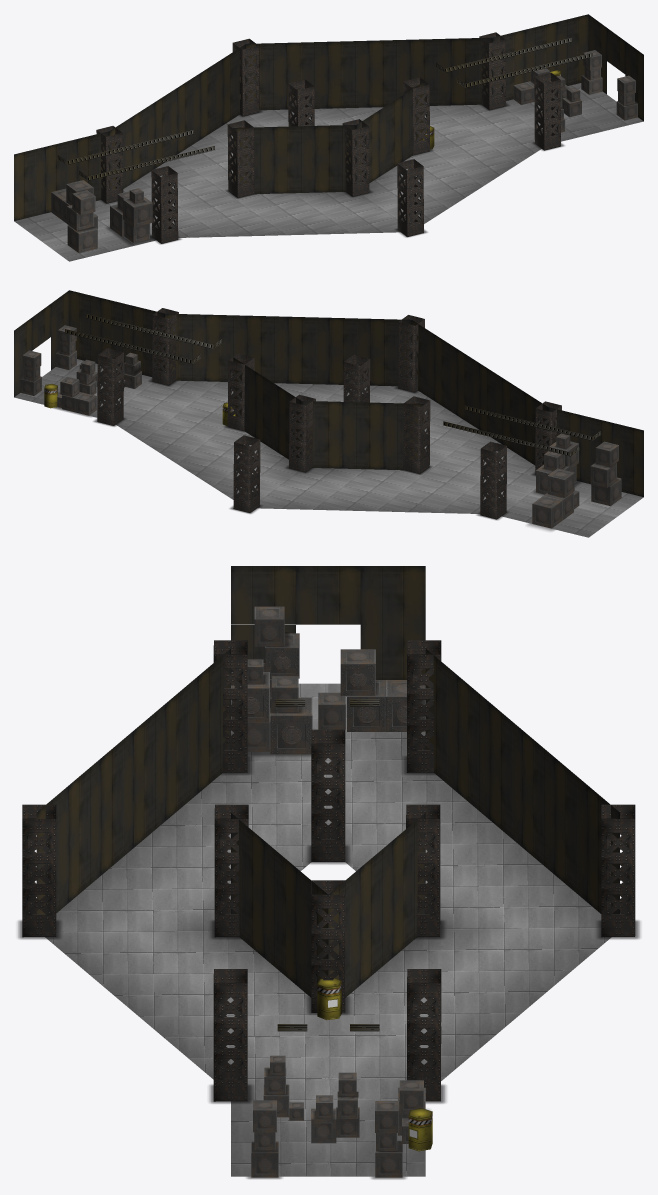
Rendered from room_14.glb.
The picture shows the model from 3 angles, top to bottom: view 1: azimuth 30°, elevation 25°; view 2: azimuth 150°, elevation 25°; view 3: azimuth 270°, elevation 25°; orthographic projection. The views are drawn at different scales.
Parts seen in each view (by area): view 1: floor, props (×10), W14, W10, W2, W13, W16, W1, W15, C1MetalBox3 (×3), EMetalBox3 (×2), F1MetalBox2 (+6 smaller); view 2: floor, props (×10), W9, W8, W3, W6, W12, W4, W15, EMetalBox3 (×2), C1MetalBox3 (×3), EMetalBox6 (+5 smaller); view 3: floor, props (×10), W10, W8, W11, W4, W1, C1MetalBox3 (×3), EMetalBox3, wall, F1MetalBox5, gagTank1 (×2) (+4 smaller).
Part boxes in pixels (x1,y1,x2,y2): floor: [14, 83, 643, 261]; props (×10): [96, 32, 560, 243]; W14: [246, 37, 492, 110]; W10: [109, 44, 245, 189]; W2: [233, 125, 356, 194]; W13: [14, 131, 109, 220]; W16: [492, 14, 588, 100]; W1: [356, 81, 424, 182]; W15: [588, 14, 643, 121]; C1MetalBox3 (×3): [67, 190, 97, 252]; EMetalBox3 (×2): [51, 81, 542, 223]; F1MetalBox2: [123, 197, 152, 227]; floor: [14, 359, 643, 537]; props (×10): [97, 308, 561, 519]; W9: [165, 313, 411, 386]; W8: [412, 320, 548, 465]; W3: [301, 401, 424, 470]; W6: [69, 290, 164, 376]; W12: [548, 407, 643, 496]; W4: [233, 357, 301, 459]; W15: [14, 290, 69, 397]; EMetalBox3 (×2): [62, 392, 573, 528]; C1MetalBox3 (×3): [590, 441, 621, 505]; EMetalBox6: [547, 468, 574, 497]; floor: [45, 683, 611, 1176]; props (×10): [22, 640, 635, 1101]; W10: [425, 648, 619, 914]; W8: [36, 648, 230, 914]; W11: [231, 566, 425, 624]; W4: [328, 813, 425, 997]; W1: [231, 813, 328, 997]; C1MetalBox3 (×3): [251, 606, 299, 1177]; EMetalBox3: [347, 680, 425, 731]; wall: [360, 624, 425, 679]; F1MetalBox5: [270, 697, 312, 754]; gagTank1 (×2): [317, 978, 432, 1151].
Bounding box in the file's own units: 272 × 31.03 × 146.
16 materials, 15 textured.
